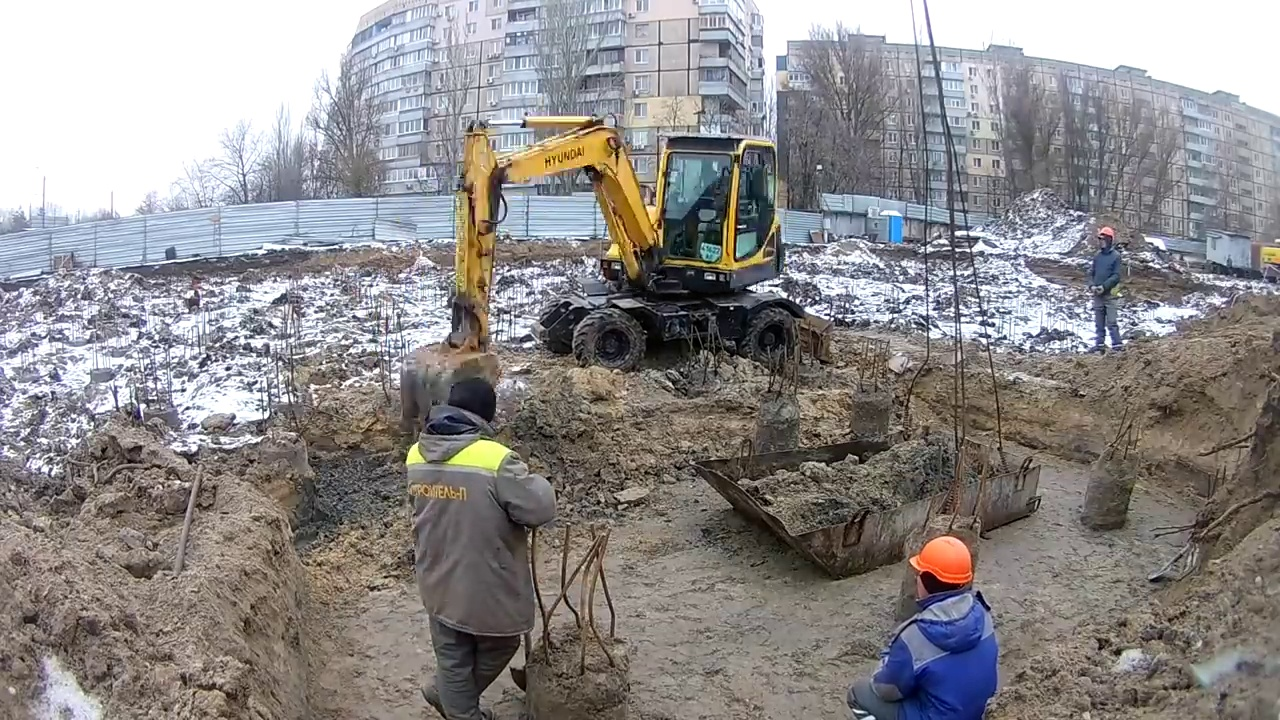helmet: (910, 537, 973, 586), (1098, 228, 1115, 238)
helmet-off: (426, 374, 497, 458)
helmet-on: (910, 535, 980, 613), (1097, 227, 1116, 250)
person: (403, 374, 558, 720), (848, 535, 1005, 720), (1087, 228, 1121, 355)
